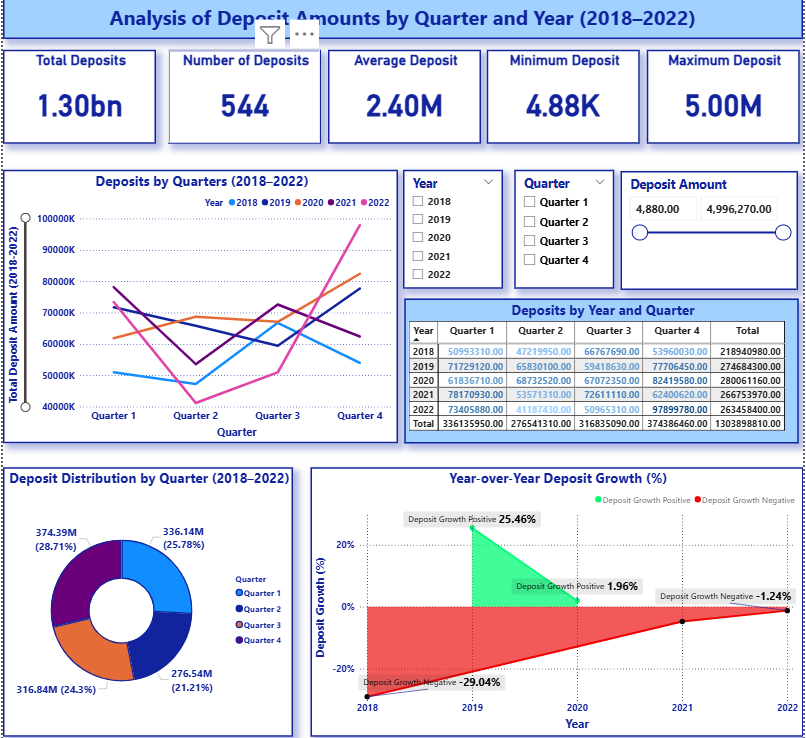

This screenshot's page, from the dashboard's own definition file:
{"tool":"powerbi","page":{"name":"Deposits","canvas":[1280,1250],"ordinal":3},"visuals":[{"type":"textbox","box":[0,4,1280,65],"z":0},{"type":"cardVisual","title":"Number of Deposits","fields":{"Data":["Measures_.Deposit Count 2018-2022"]},"box":[263.5,86.2,245,150],"z":1000},{"type":"cardVisual","title":"Average Deposit","fields":{"Data":["Measures_.Average Deposit Amount 2018-2022"]},"box":[519,86.2,245,150],"z":2000},{"type":"cardVisual","title":"Maximum Deposit","fields":{"Data":["Measures_.Max Deposit 2018-2022"]},"box":[1030,86.2,245,150],"z":3000},{"type":"cardVisual","title":"Total Deposits","fields":{"Data":["Measures_.Total Deposit Amount 2018-2022"]},"box":[0,86.5,245,150],"z":4000},{"type":"lineChart","title":"Deposits by Quarters (2018–2022)","fields":{"Series":["dimDate.Year"],"Y":["Measures_.Total Deposit Amount 2018-2022"],"Category":["dimDate.QuarterText"]},"box":[0,278.9,632.2,437.8],"z":5000},{"type":"pivotTable","title":"Deposits  by Year and Quarter","fields":{"Rows":["dimDate.Year"],"Values":["Measures_.Total Deposit Amount 2018-2022"],"Columns":["dimDate.QuarterText"]},"box":[641.1,484.4,631.1,232.2],"z":6000},{"type":"slicer","fields":{"Values":["dimDate.Year"]},"box":[640,278.8,160,190],"z":7000},{"type":"slicer","fields":{"Values":["dimDate.QuarterText"]},"box":[818.9,278.4,160,190],"z":8000},{"type":"slicer","fields":{"Values":["factDeposits.AmountDeposit"]},"box":[988.8,279,283.8,190],"z":9000},{"type":"cardVisual","title":"Minimum Deposit","fields":{"Data":["Measures_.Min Deposit 2018-2022"]},"box":[774.5,86.2,245,150],"z":10000},{"type":"donutChart","title":"Deposit Distribution by Quarter (2018–2022)","fields":{"Category":["dimDate.QuarterText"],"Y":["Measures_.Total Deposit Amount 2018-2022"]},"box":[0,754,463.8,431.2],"z":11000},{"type":"lineChart","title":"Year-over-Year Deposit Growth (%)","fields":{"Category":["dimDate.Year"],"Y":["Measures_.Deposit Growth Positive","Measures_.Deposit Growth Negative"]},"box":[491.3,754,788.8,431.2],"z":12000}]}

Visuals, with their boxes on the page's 1280x1250 design canvas (x1, y1, x2, y2). These are canvas units, not pixel positions in the 806x738 screenshot, which may show the page scaled, cropped or inside an application window:
textbox: rect(0, 4, 1280, 69)
"Number of Deposits" cardVisual: rect(264, 86, 508, 236)
"Average Deposit" cardVisual: rect(519, 86, 764, 236)
"Maximum Deposit" cardVisual: rect(1030, 86, 1275, 236)
"Total Deposits" cardVisual: rect(0, 86, 245, 236)
"Deposits by Quarters (2018–2022)" lineChart: rect(0, 279, 632, 717)
"Deposits  by Year and Quarter" pivotTable: rect(641, 484, 1272, 717)
slicer - dimDate.Year: rect(640, 279, 800, 469)
slicer - dimDate.QuarterText: rect(819, 278, 979, 468)
slicer - factDeposits.AmountDeposit: rect(989, 279, 1273, 469)
"Minimum Deposit" cardVisual: rect(774, 86, 1020, 236)
"Deposit Distribution by Quarter (2018–2022)" donutChart: rect(0, 754, 464, 1185)
"Year-over-Year Deposit Growth (%)" lineChart: rect(491, 754, 1280, 1185)
